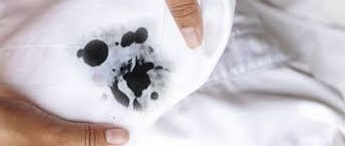ink: (126, 62, 153, 96), (81, 41, 109, 66), (122, 27, 147, 47), (114, 89, 128, 106)
